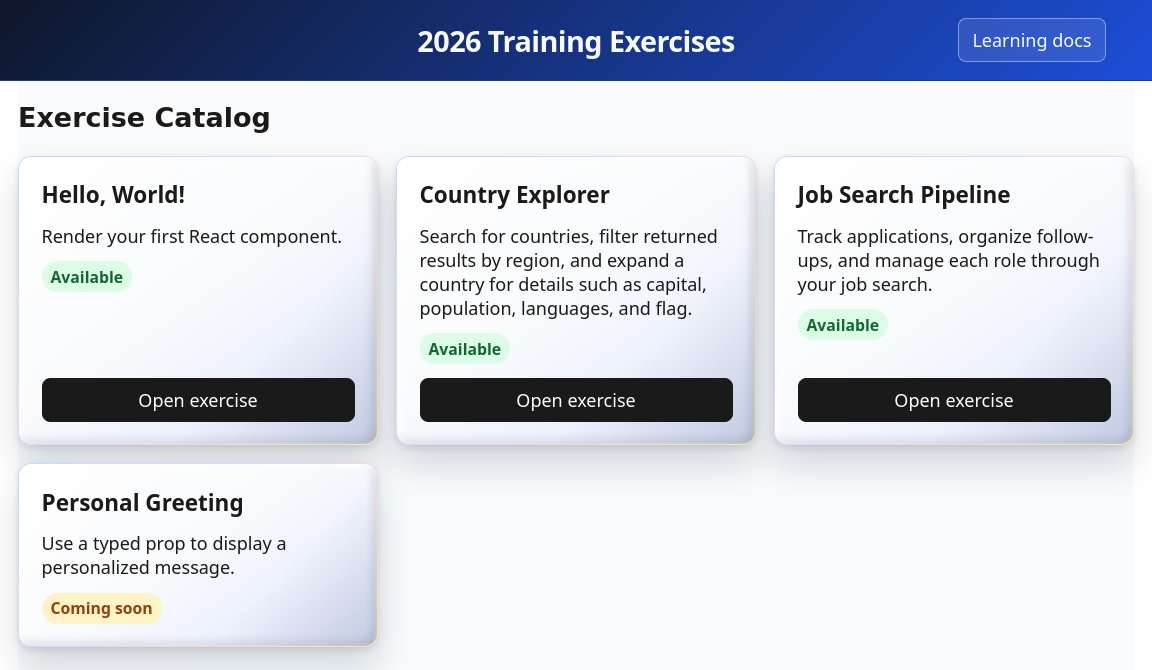
Test: App › returns to the exercise catalog from learning materials
Click the link "Learning docs" at (1032, 40), box [958,18,1106,62]
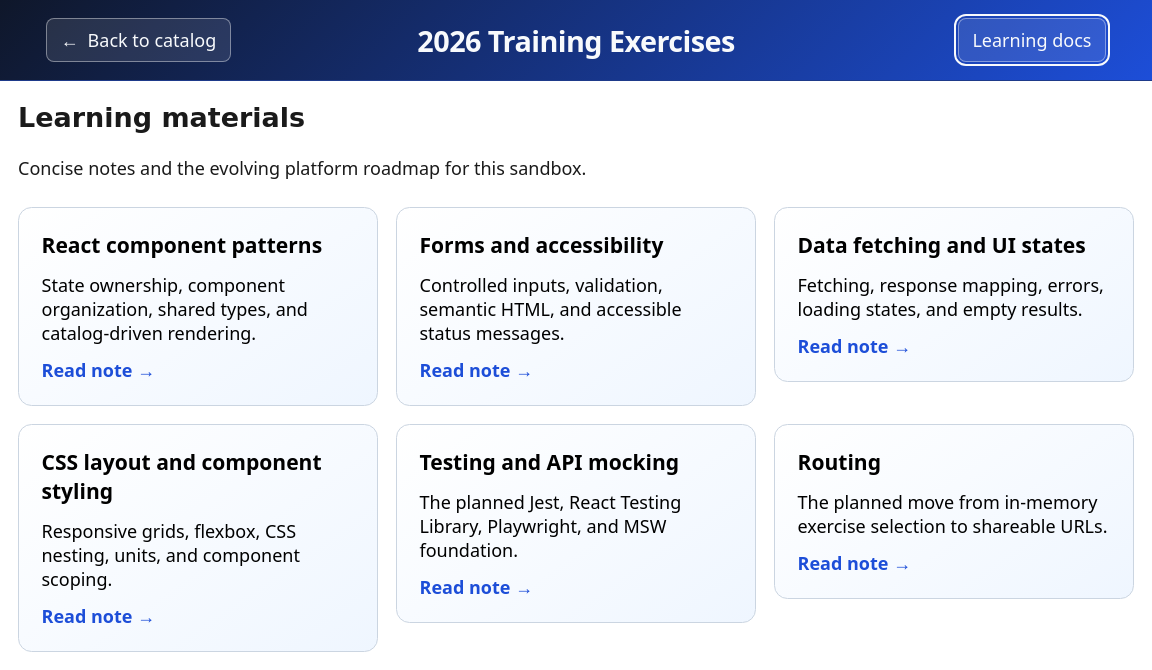
Now the heading "Learning materials" is shown, box [18,102,305,133]
Click the link "← Back to catalog" at (138, 40), box [46,18,231,62]
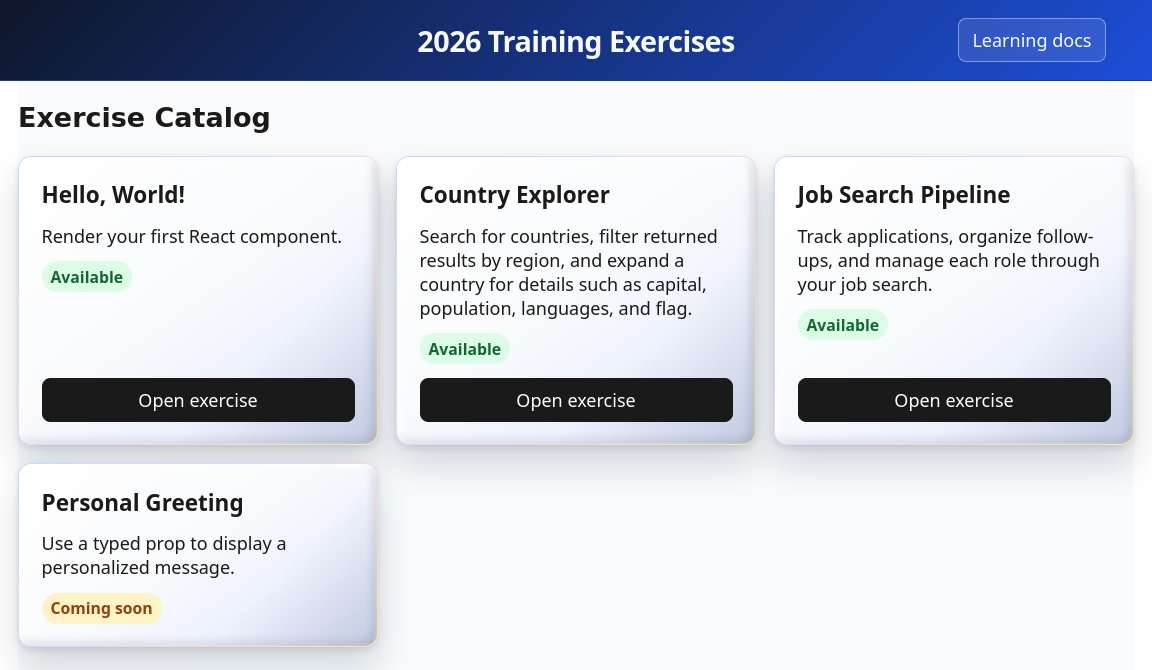
Now the heading "Exercise Catalog" is shown, box [18,102,271,133]
